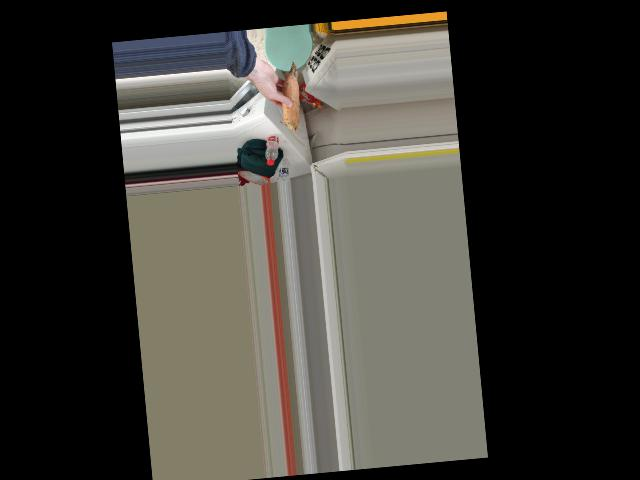sweet_potato: (275, 65, 301, 125)
